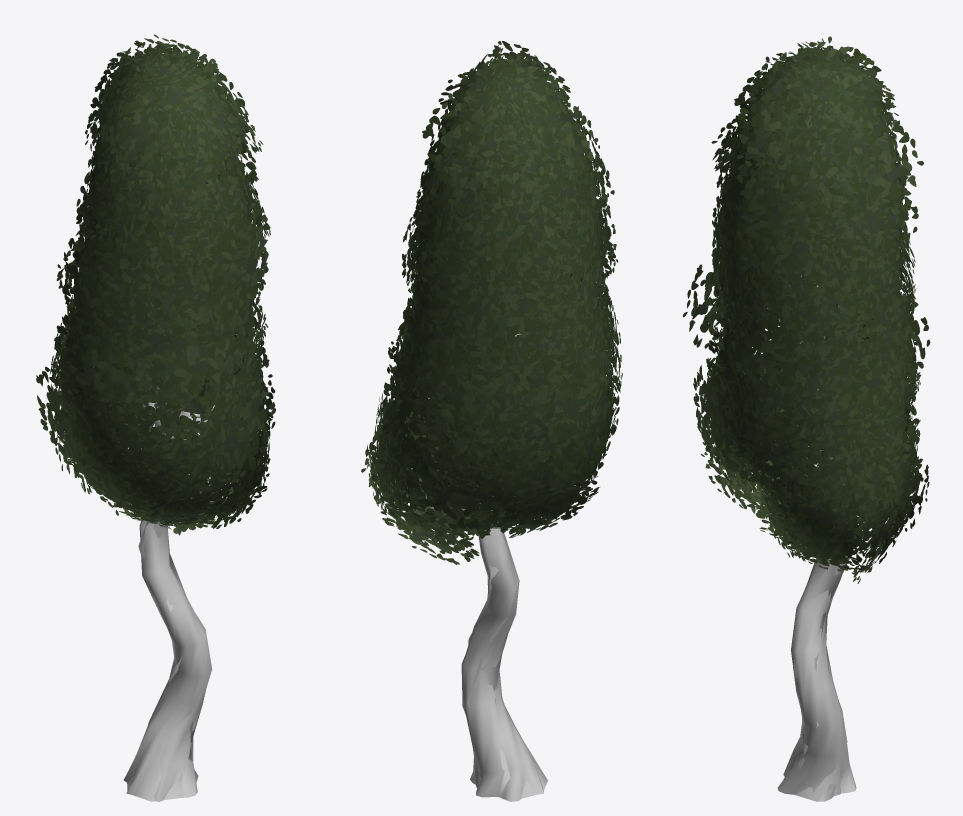
The model's file is Tree3b.fbx.
The picture shows the model from 3 angles, left to right: view 1: azimuth 30°, elevation 25°; view 2: azimuth 150°, elevation 25°; view 3: azimuth 270°, elevation 25°; orthographic projection.
Parts seen in each view (by area): view 1: Tree3_Canopy01, Tree3_LOD0; view 2: Tree3_Canopy01, Tree3_LOD0; view 3: Tree3_Canopy01, Tree3_LOD0.
Boxes of the visible parts, x1,y1,x2,y2 form: Tree3_Canopy01: (36, 34, 275, 535); Tree3_LOD0: (93, 367, 214, 801); Tree3_Canopy01: (361, 41, 622, 564); Tree3_LOD0: (411, 294, 547, 801); Tree3_Canopy01: (683, 36, 930, 583); Tree3_LOD0: (756, 164, 858, 801).
Bounding box in the file's own units: 383 × 1023 × 338.
